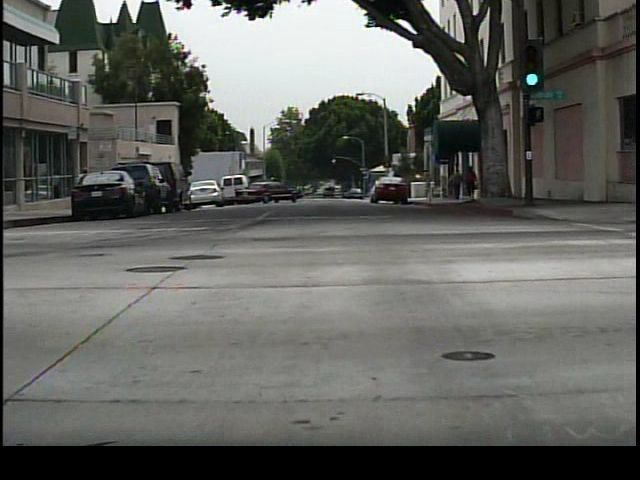person: (446, 170, 467, 205), (464, 161, 481, 204)
